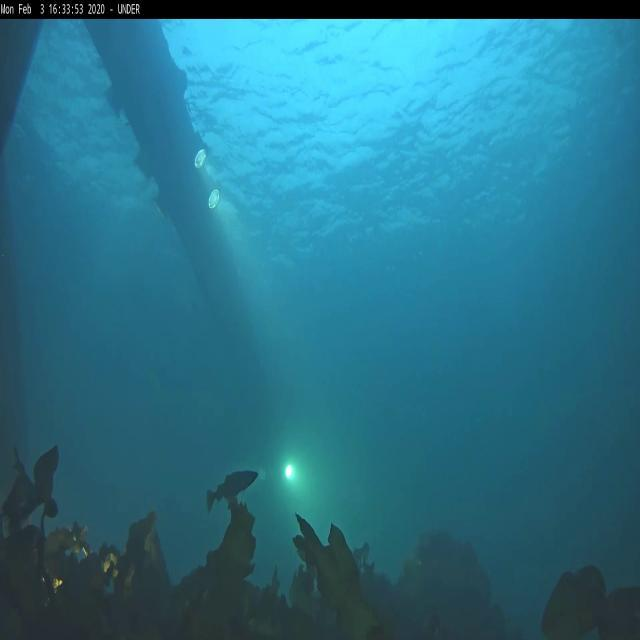fish: (208, 470, 258, 506)
